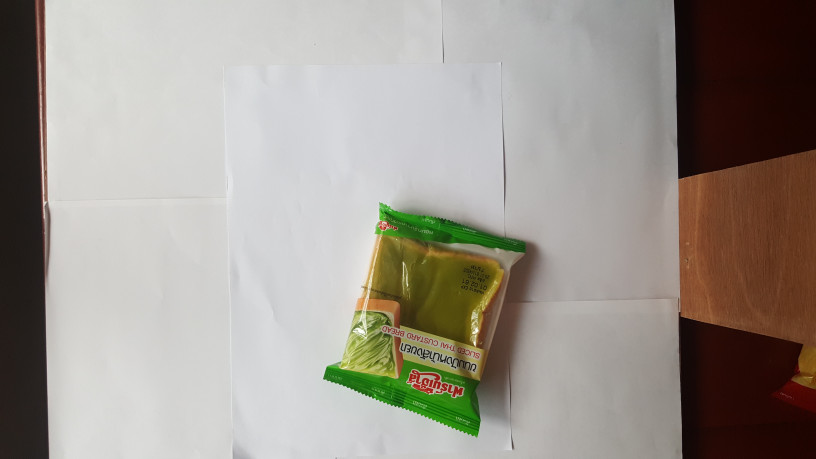farmhouse-bread-pandan: (309, 198, 533, 443)
